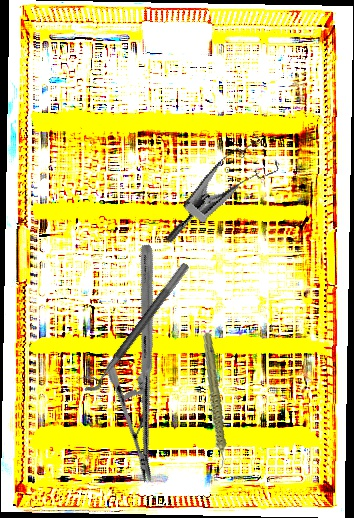Fixation Ring: (75, 253, 191, 398)
Handpiece: (186, 331, 241, 473)
Needle Holder: (42, 241, 251, 486)
Speculum: (163, 119, 289, 273)
